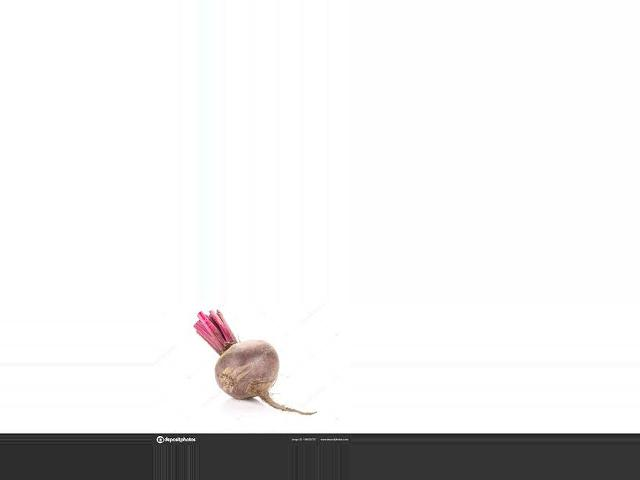beet: (194, 310, 317, 415)
